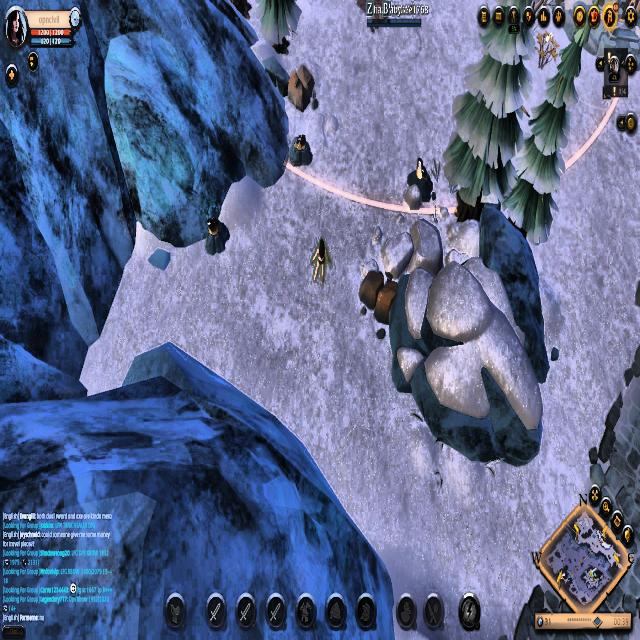copper_ore: (200, 217, 231, 257), (407, 154, 434, 198), (284, 132, 314, 168)
limestone: (358, 269, 402, 321), (283, 61, 320, 111)
